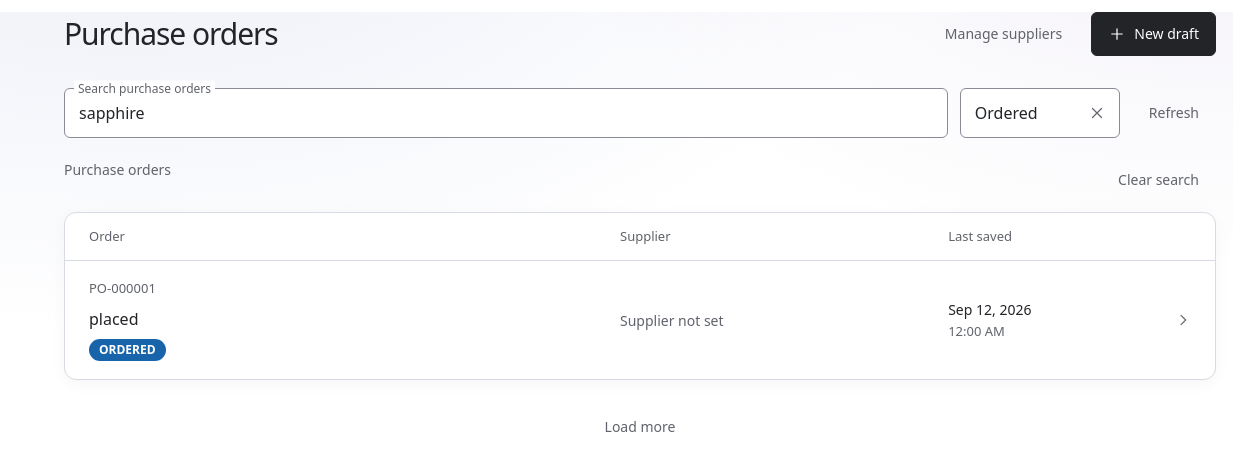
Scenario: clears the status filter from page one while preserving search and keyboard focus
Expected: the dropdown named "Order status" shows "Ordered", [960,88,1120,138]
// WHEN clearing only status THEN all states load from page one using the existing search.
Step 1. Click the button named "Clear status filter" → (1097,113), box [1075,89,1119,137]
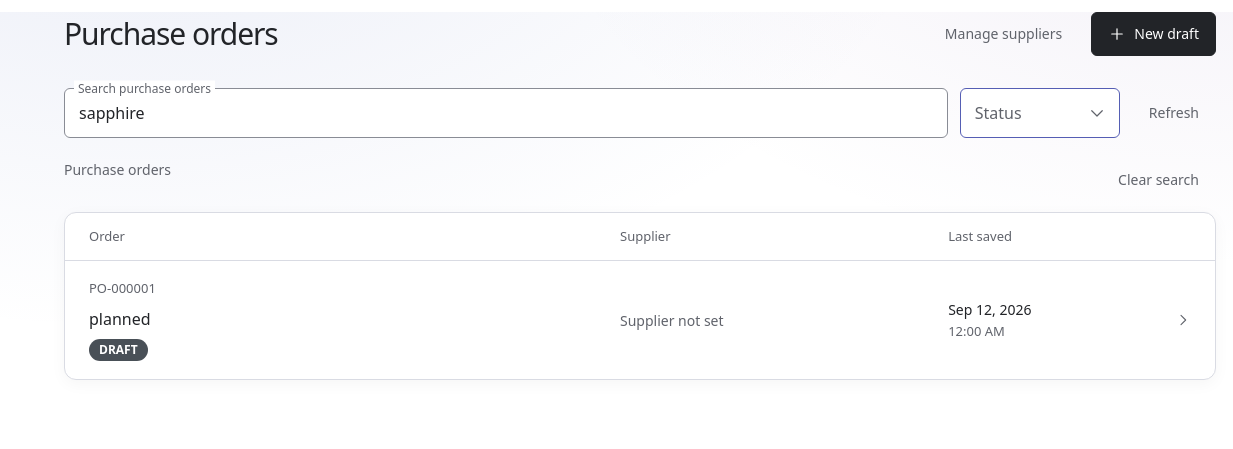
Expected: the search field holds "sapphire", [64,88,948,138]
Result: the link "planned" is shown at [65,261,1215,379]
Result: the dropdown named "Order status" shows "Status" at [960,88,1120,138]
